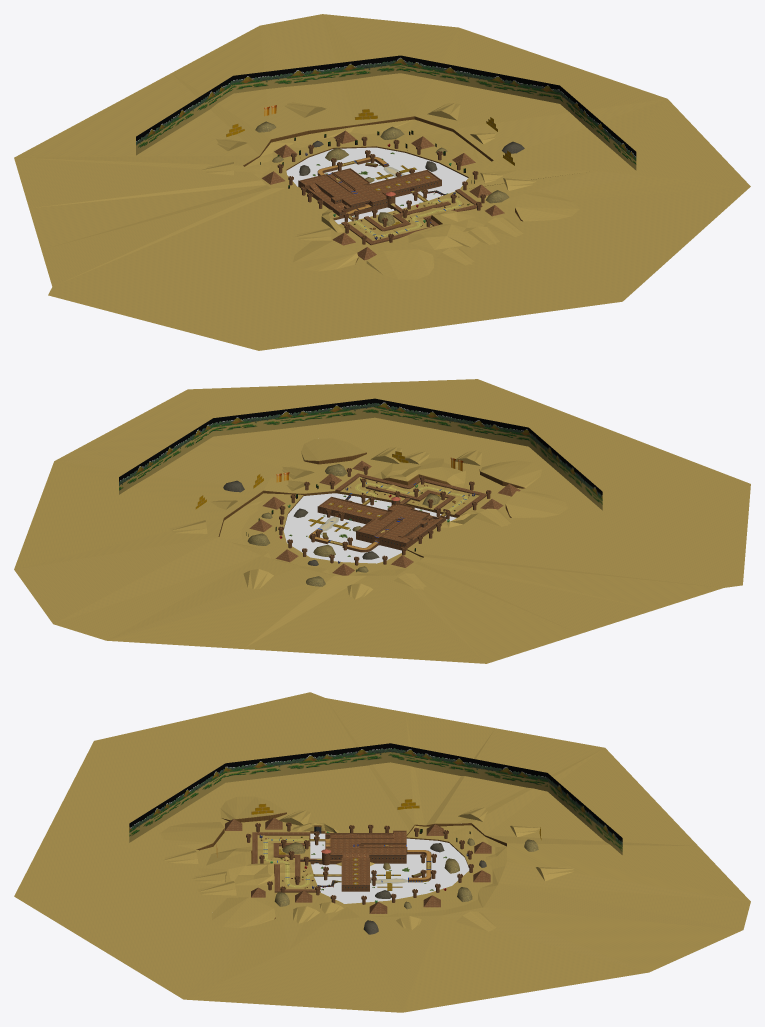
File: course2.glb
3 views of the same model, one above another, from view 1: azimuth 30°, elevation 25°; view 2: azimuth 150°, elevation 25°; view 3: azimuth 270°, elevation 25° (orthographic). The views are drawn at different scales.
Visible parts, largest first — view 1: sandoffroad, Material3, wallgdf, Water, Material2, Material1, wallll; view 2: sandoffroad, Material3, wallgdf, Water, Material2, Material1, wallll; view 3: sandoffroad, Material3, wallgdf, Water, Material2, wallll, Material1.
Boxes of the visible parts, box(x1,y1,x2,y2) form: sandoffroad: box(14, 14, 750, 350); Material3: box(136, 55, 636, 170); wallgdf: box(262, 130, 504, 260); Water: box(286, 147, 467, 224); Material2: box(300, 169, 439, 212); Material1: box(243, 116, 522, 262); wallll: box(255, 121, 509, 225); sandoffroad: box(14, 379, 750, 663); Material3: box(119, 398, 602, 510); wallgdf: box(249, 461, 520, 575); Water: box(283, 493, 456, 563); Material2: box(320, 498, 443, 542); Material1: box(218, 452, 525, 557); wallll: box(247, 464, 440, 586); sandoffroad: box(14, 692, 750, 1012); Material3: box(129, 743, 622, 854); wallgdf: box(225, 818, 491, 913); Water: box(310, 833, 469, 903); Material2: box(325, 831, 405, 885); wallll: box(274, 838, 538, 909); Material1: box(196, 812, 506, 919).
Bounding box in the file's own units: 3000 × 97.96 × 2913.
64 materials, 64 textured.
